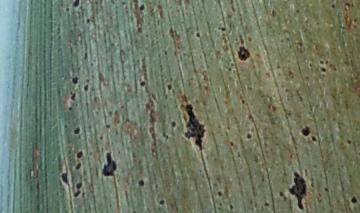tarspot: (183, 103, 205, 151), (289, 171, 307, 209), (102, 151, 116, 176), (238, 46, 251, 62), (60, 171, 69, 184), (301, 125, 311, 136), (72, 126, 81, 136), (69, 91, 76, 102), (138, 3, 146, 12), (71, 76, 79, 85), (137, 178, 145, 187), (244, 132, 252, 140), (278, 190, 285, 199), (351, 196, 358, 205), (318, 66, 327, 73), (218, 25, 227, 32), (73, 189, 80, 197), (310, 134, 317, 142), (263, 200, 270, 208), (162, 132, 169, 140), (195, 30, 201, 39), (73, 1, 80, 8), (158, 198, 165, 205), (170, 120, 177, 127), (139, 80, 146, 87), (75, 162, 81, 170), (104, 123, 112, 129), (323, 185, 329, 193), (83, 83, 88, 92), (76, 152, 83, 158), (167, 83, 172, 91), (347, 138, 352, 146), (64, 6, 70, 12), (295, 8, 301, 14), (85, 17, 90, 24), (217, 190, 222, 197), (229, 139, 234, 146), (352, 18, 359, 23), (76, 183, 82, 188), (331, 3, 336, 9), (99, 135, 104, 141), (241, 98, 245, 105), (68, 106, 73, 111), (229, 204, 234, 209)
